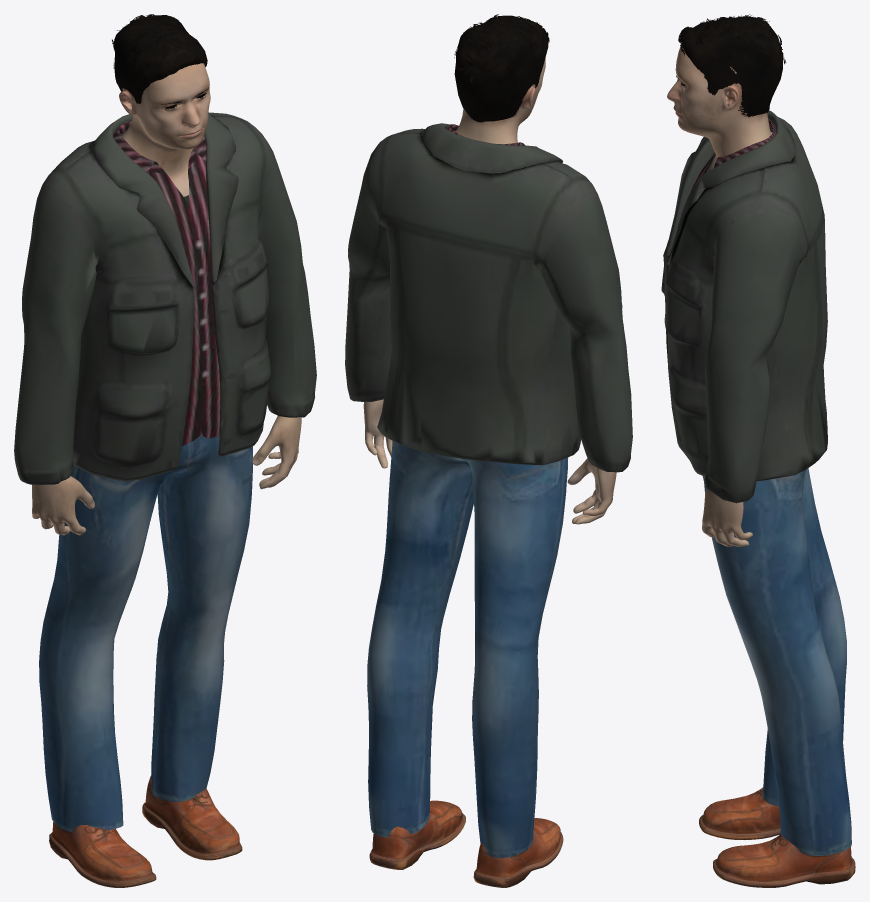
The model's file is detail_visitor.glb.
3 renders of one model, left to right at view 1: azimuth 30°, elevation 25°; view 2: azimuth 150°, elevation 25°; view 3: azimuth 270°, elevation 25°, orthographic. The views are drawn at different scales.
Visible parts, largest first — view 1: man_body.male_casualsuit05, man_body, man_body.shoes01, man_body.short01; view 2: man_body.male_casualsuit05, man_body.short01, man_body.shoes01, man_body; view 3: man_body.male_casualsuit05, man_body.shoes01, man_body, man_body.short01.
Boxes of the visible parts, x1=… form: man_body.male_casualsuit05: x1=14, y1=112, x2=316, y2=832; man_body: x1=32, y1=63, x2=301, y2=535; man_body.shoes01: x1=49, y1=775, x2=242, y2=887; man_body.short01: x1=112, y1=14, x2=207, y2=103; man_body.male_casualsuit05: x1=345, y1=123, x2=632, y2=857; man_body.short01: x1=454, y1=14, x2=549, y2=122; man_body.shoes01: x1=369, y1=800, x2=563, y2=887; man_body: x1=363, y1=57, x2=616, y2=524; man_body.male_casualsuit05: x1=661, y1=110, x2=851, y2=855; man_body.shoes01: x1=699, y1=787, x2=855, y2=887; man_body: x1=667, y1=46, x2=772, y2=546; man_body.short01: x1=678, y1=14, x2=785, y2=117.
Bounding box in the file's own units: 0.6588 × 1.79 × 0.3807.
9 materials, 9 textured.
